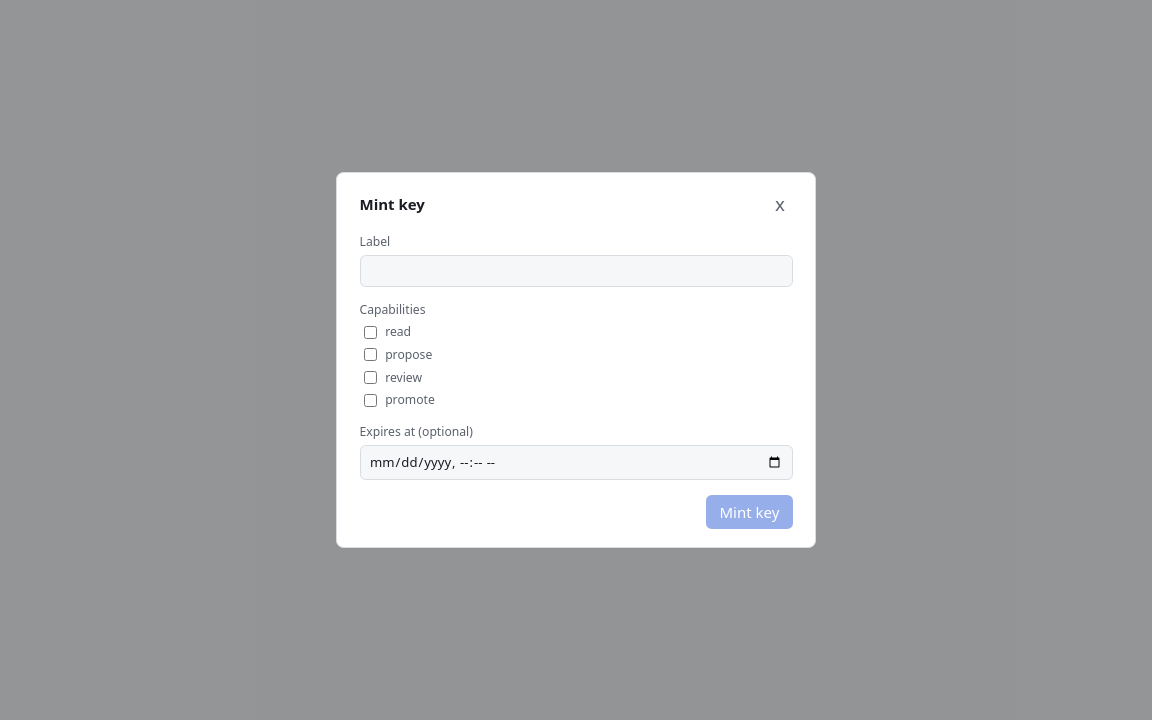
KeyMintDialog › shows the minted secret once and touches neither localStorage nor sessionStorage
Type "ci key" into the field labelled "Label". click: x=576, y=271
box: top-left (360, 254), bottom-right (792, 287)
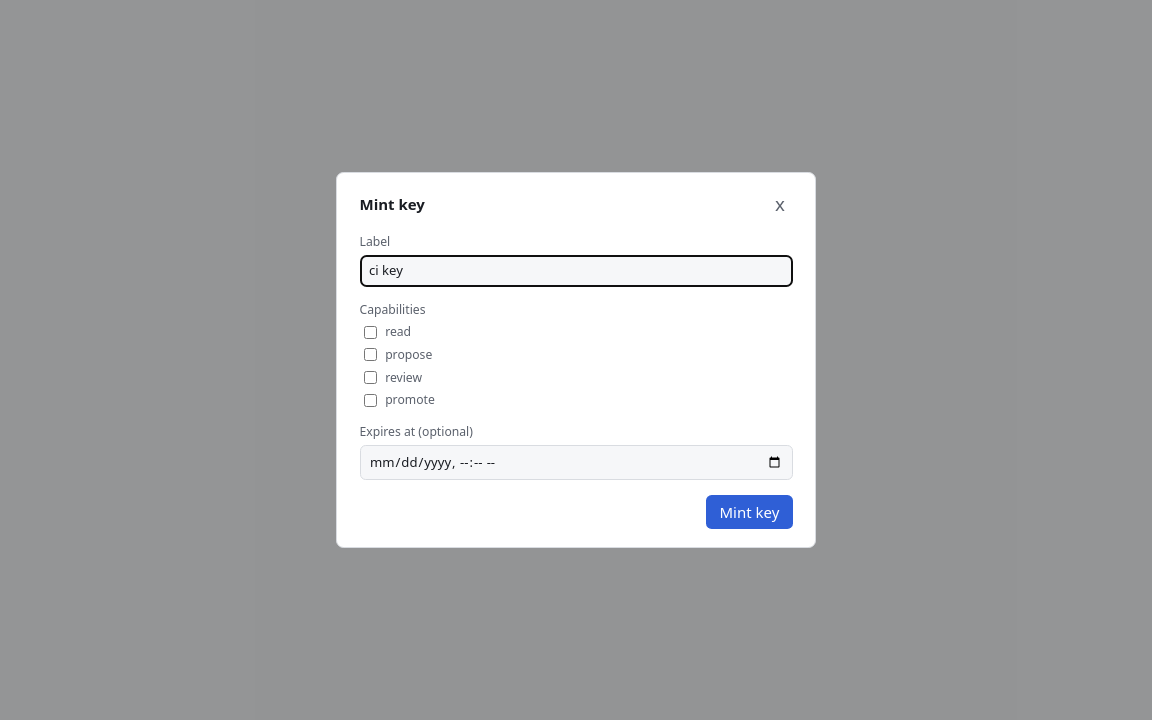
Click the checkbox labelled "read". click: x=370, y=332
box: top-left (364, 326), bottom-right (376, 339)
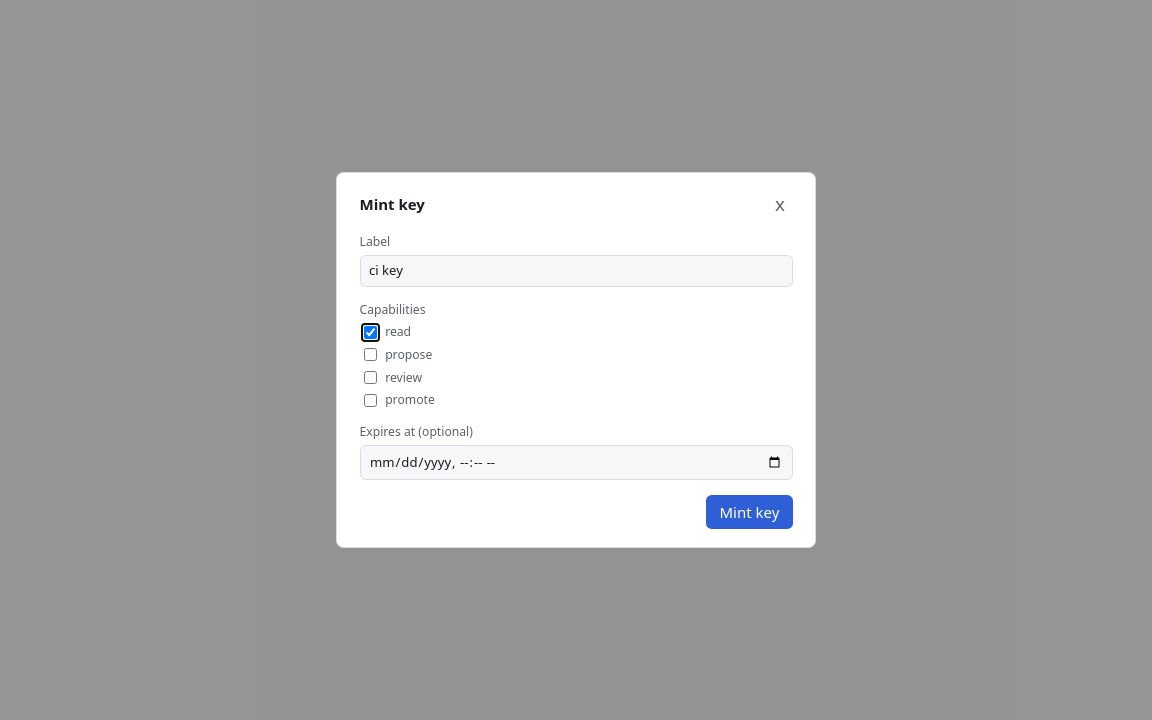
Click the button "Mint key". click: x=749, y=512
box: top-left (706, 495), bottom-right (792, 529)
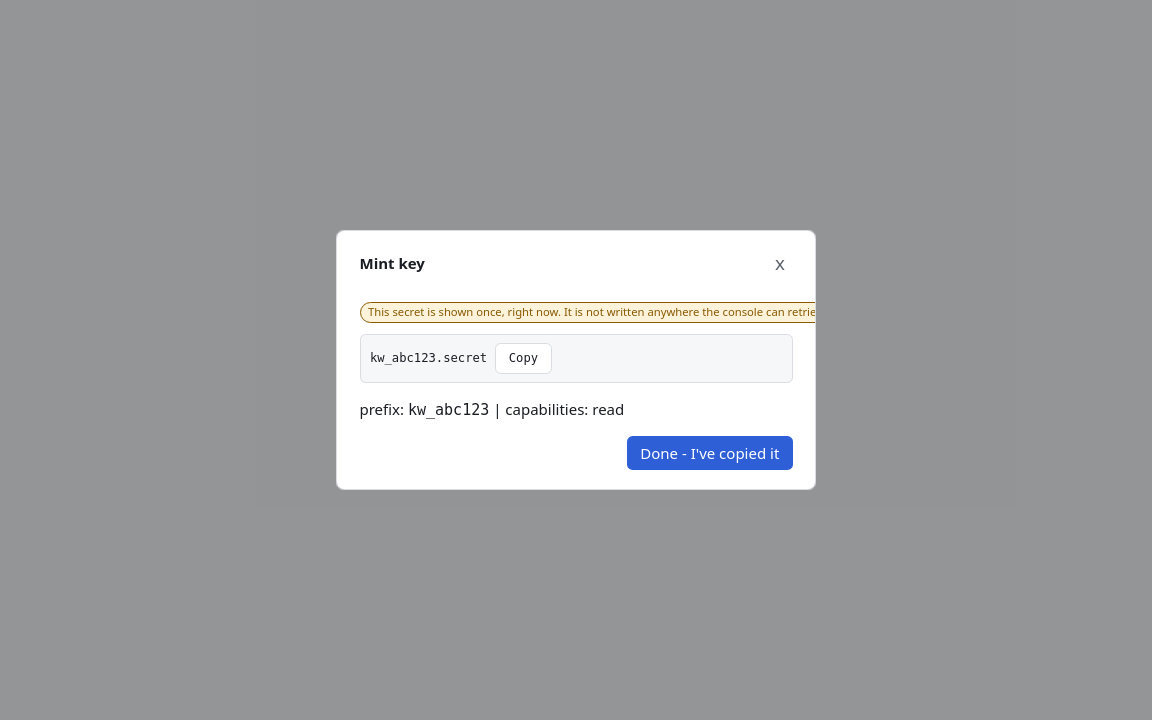
Check: the text "kw_abc123.secret" is shown, box top-left (370, 350), bottom-right (487, 368)
Check: the text "shown once, right now" is shown, box top-left (368, 304), bottom-right (816, 319)
